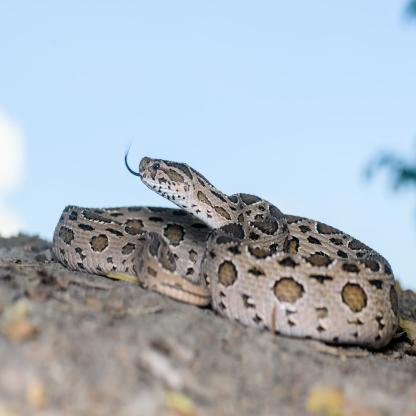Snake: (50, 154, 400, 348)
